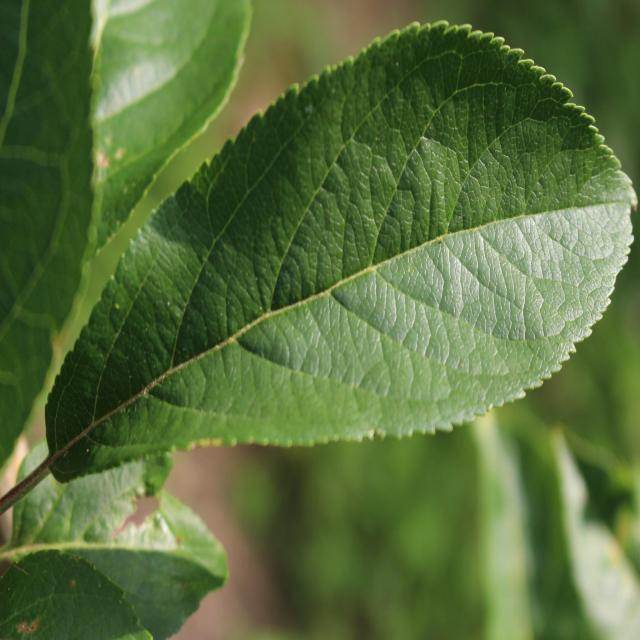Rust: (0, 608, 79, 639), (177, 432, 239, 471), (62, 569, 89, 596)
